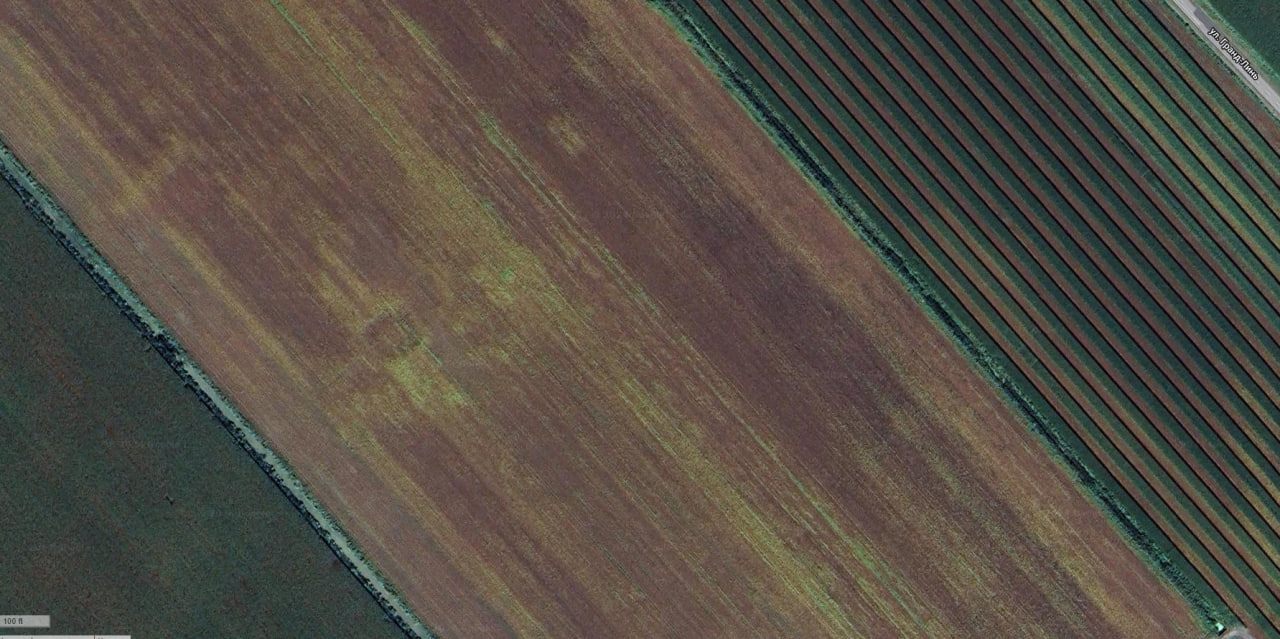Sown field: (661, 0, 1280, 636), (1209, 0, 1280, 80)
